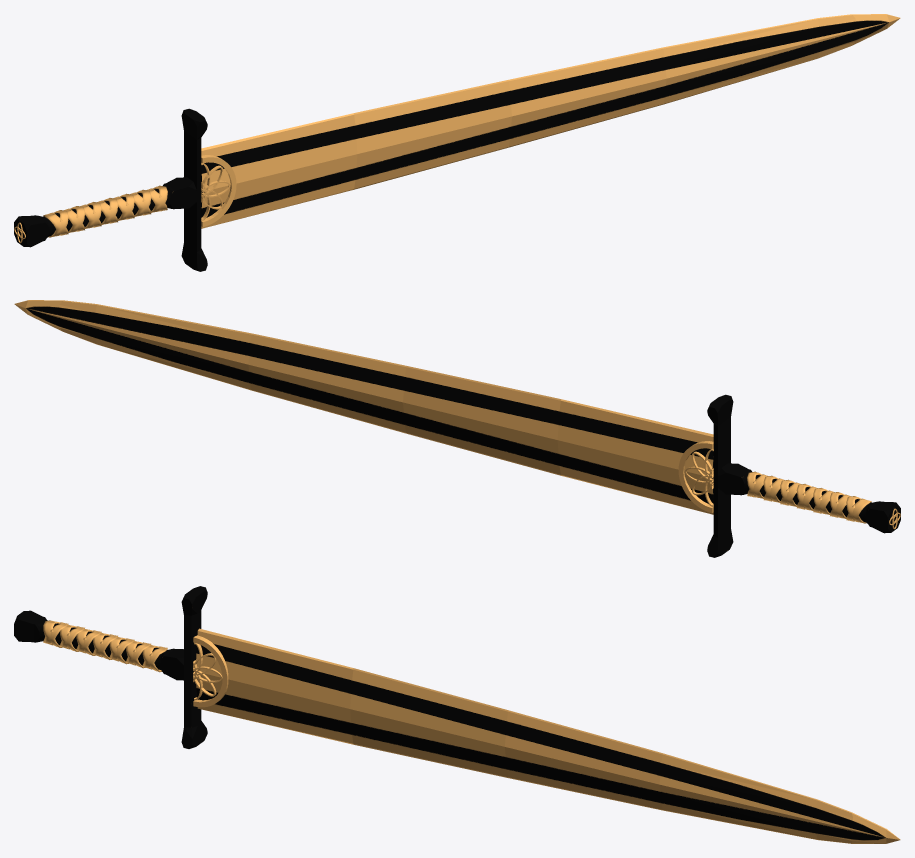
The model's file is SwordSymmetricforER.fbx.
3 renders of one model, top to bottom at view 1: azimuth 30°, elevation 25°; view 2: azimuth 150°, elevation 25°; view 3: azimuth 330°, elevation 25°, orthographic.
Parts seen in each view (by area): view 1: GoldenSwordOfVirtue; view 2: GoldenSwordOfVirtue; view 3: GoldenSwordOfVirtue.
Boxes of the visible parts, x1=… form: GoldenSwordOfVirtue: x1=14, y1=14, x2=900, y2=271; GoldenSwordOfVirtue: x1=14, y1=300, x2=900, y2=557; GoldenSwordOfVirtue: x1=14, y1=586, x2=900, y2=843.
Bounding box in the file's own units: 20.34 × 3.3 × 0.6643.
